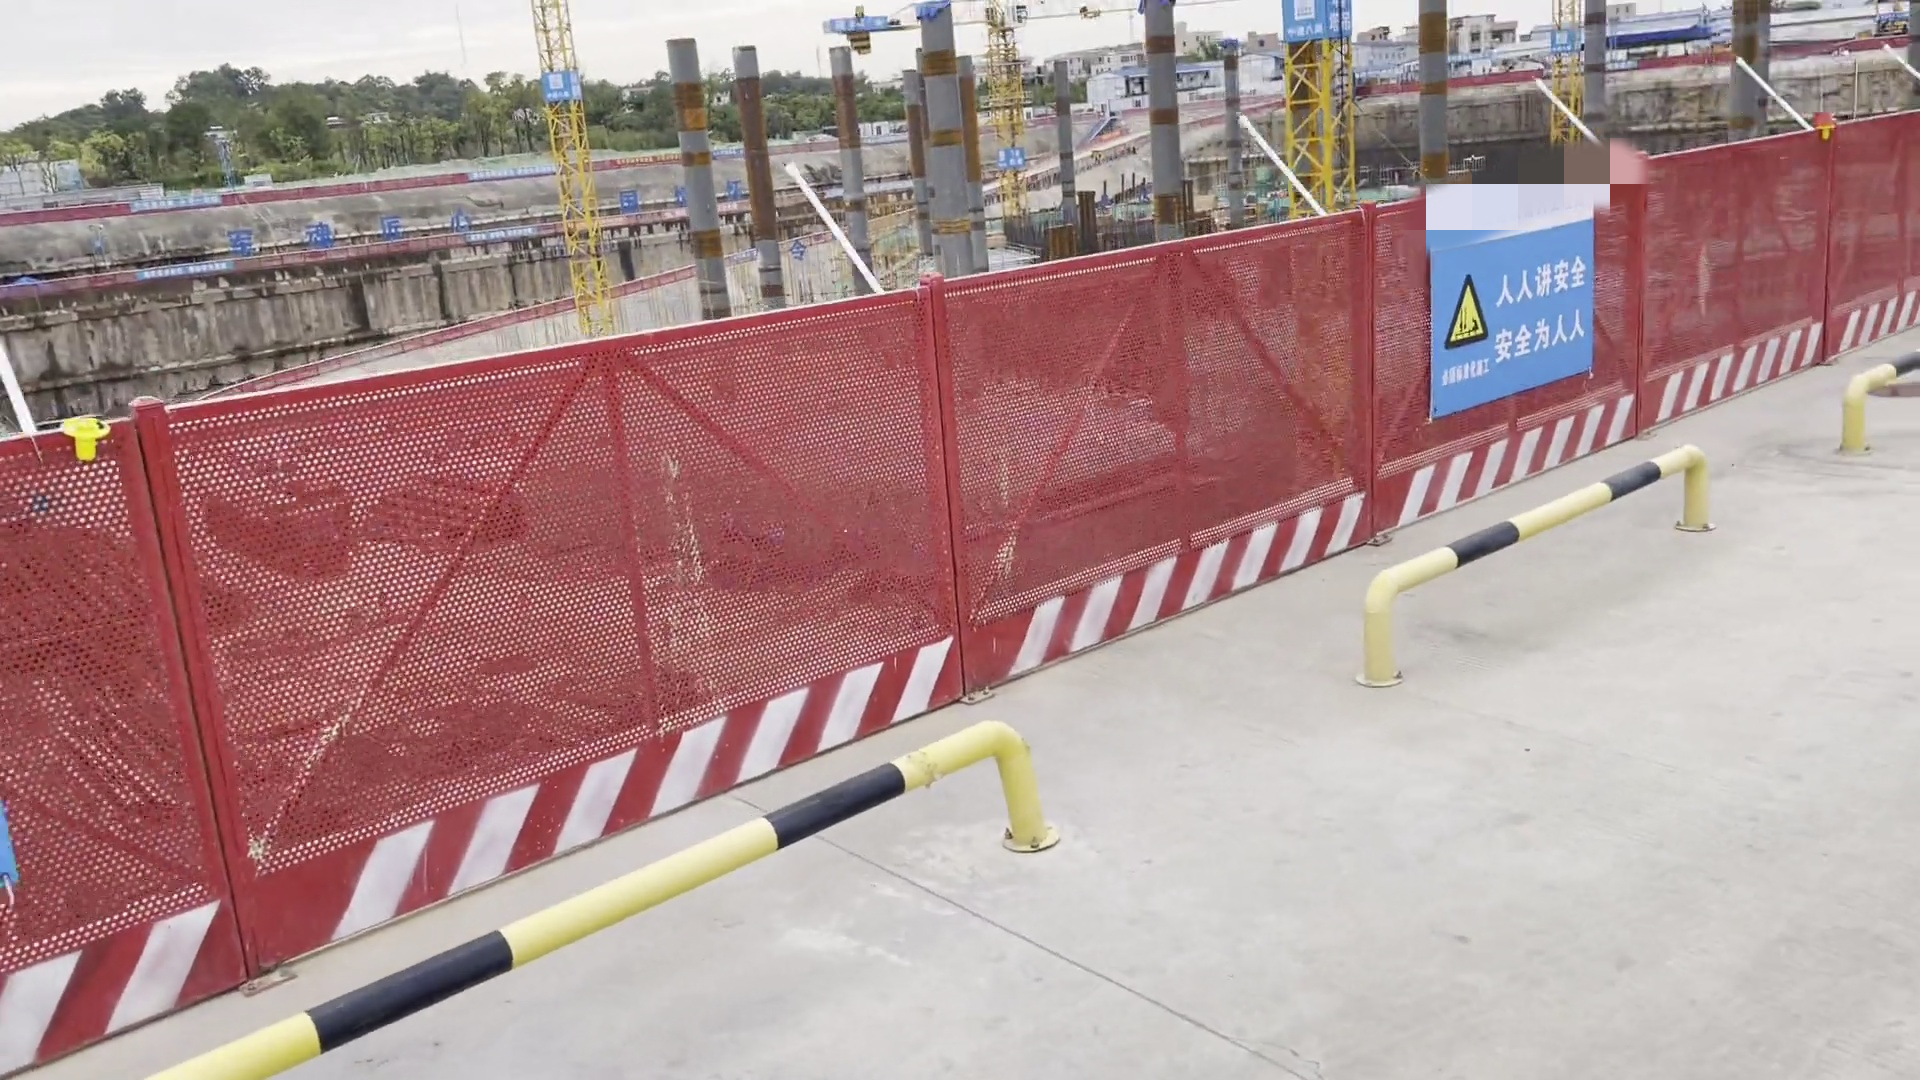fence: (7, 375, 603, 1048), (440, 280, 916, 839), (891, 255, 1296, 727), (1171, 185, 1618, 580), (1602, 105, 1920, 448)
slogan: (1403, 171, 1619, 434), (1261, 1, 1383, 57), (814, 1, 899, 46), (125, 189, 229, 224), (521, 53, 591, 104), (990, 142, 1040, 189), (1524, 30, 1592, 65)
